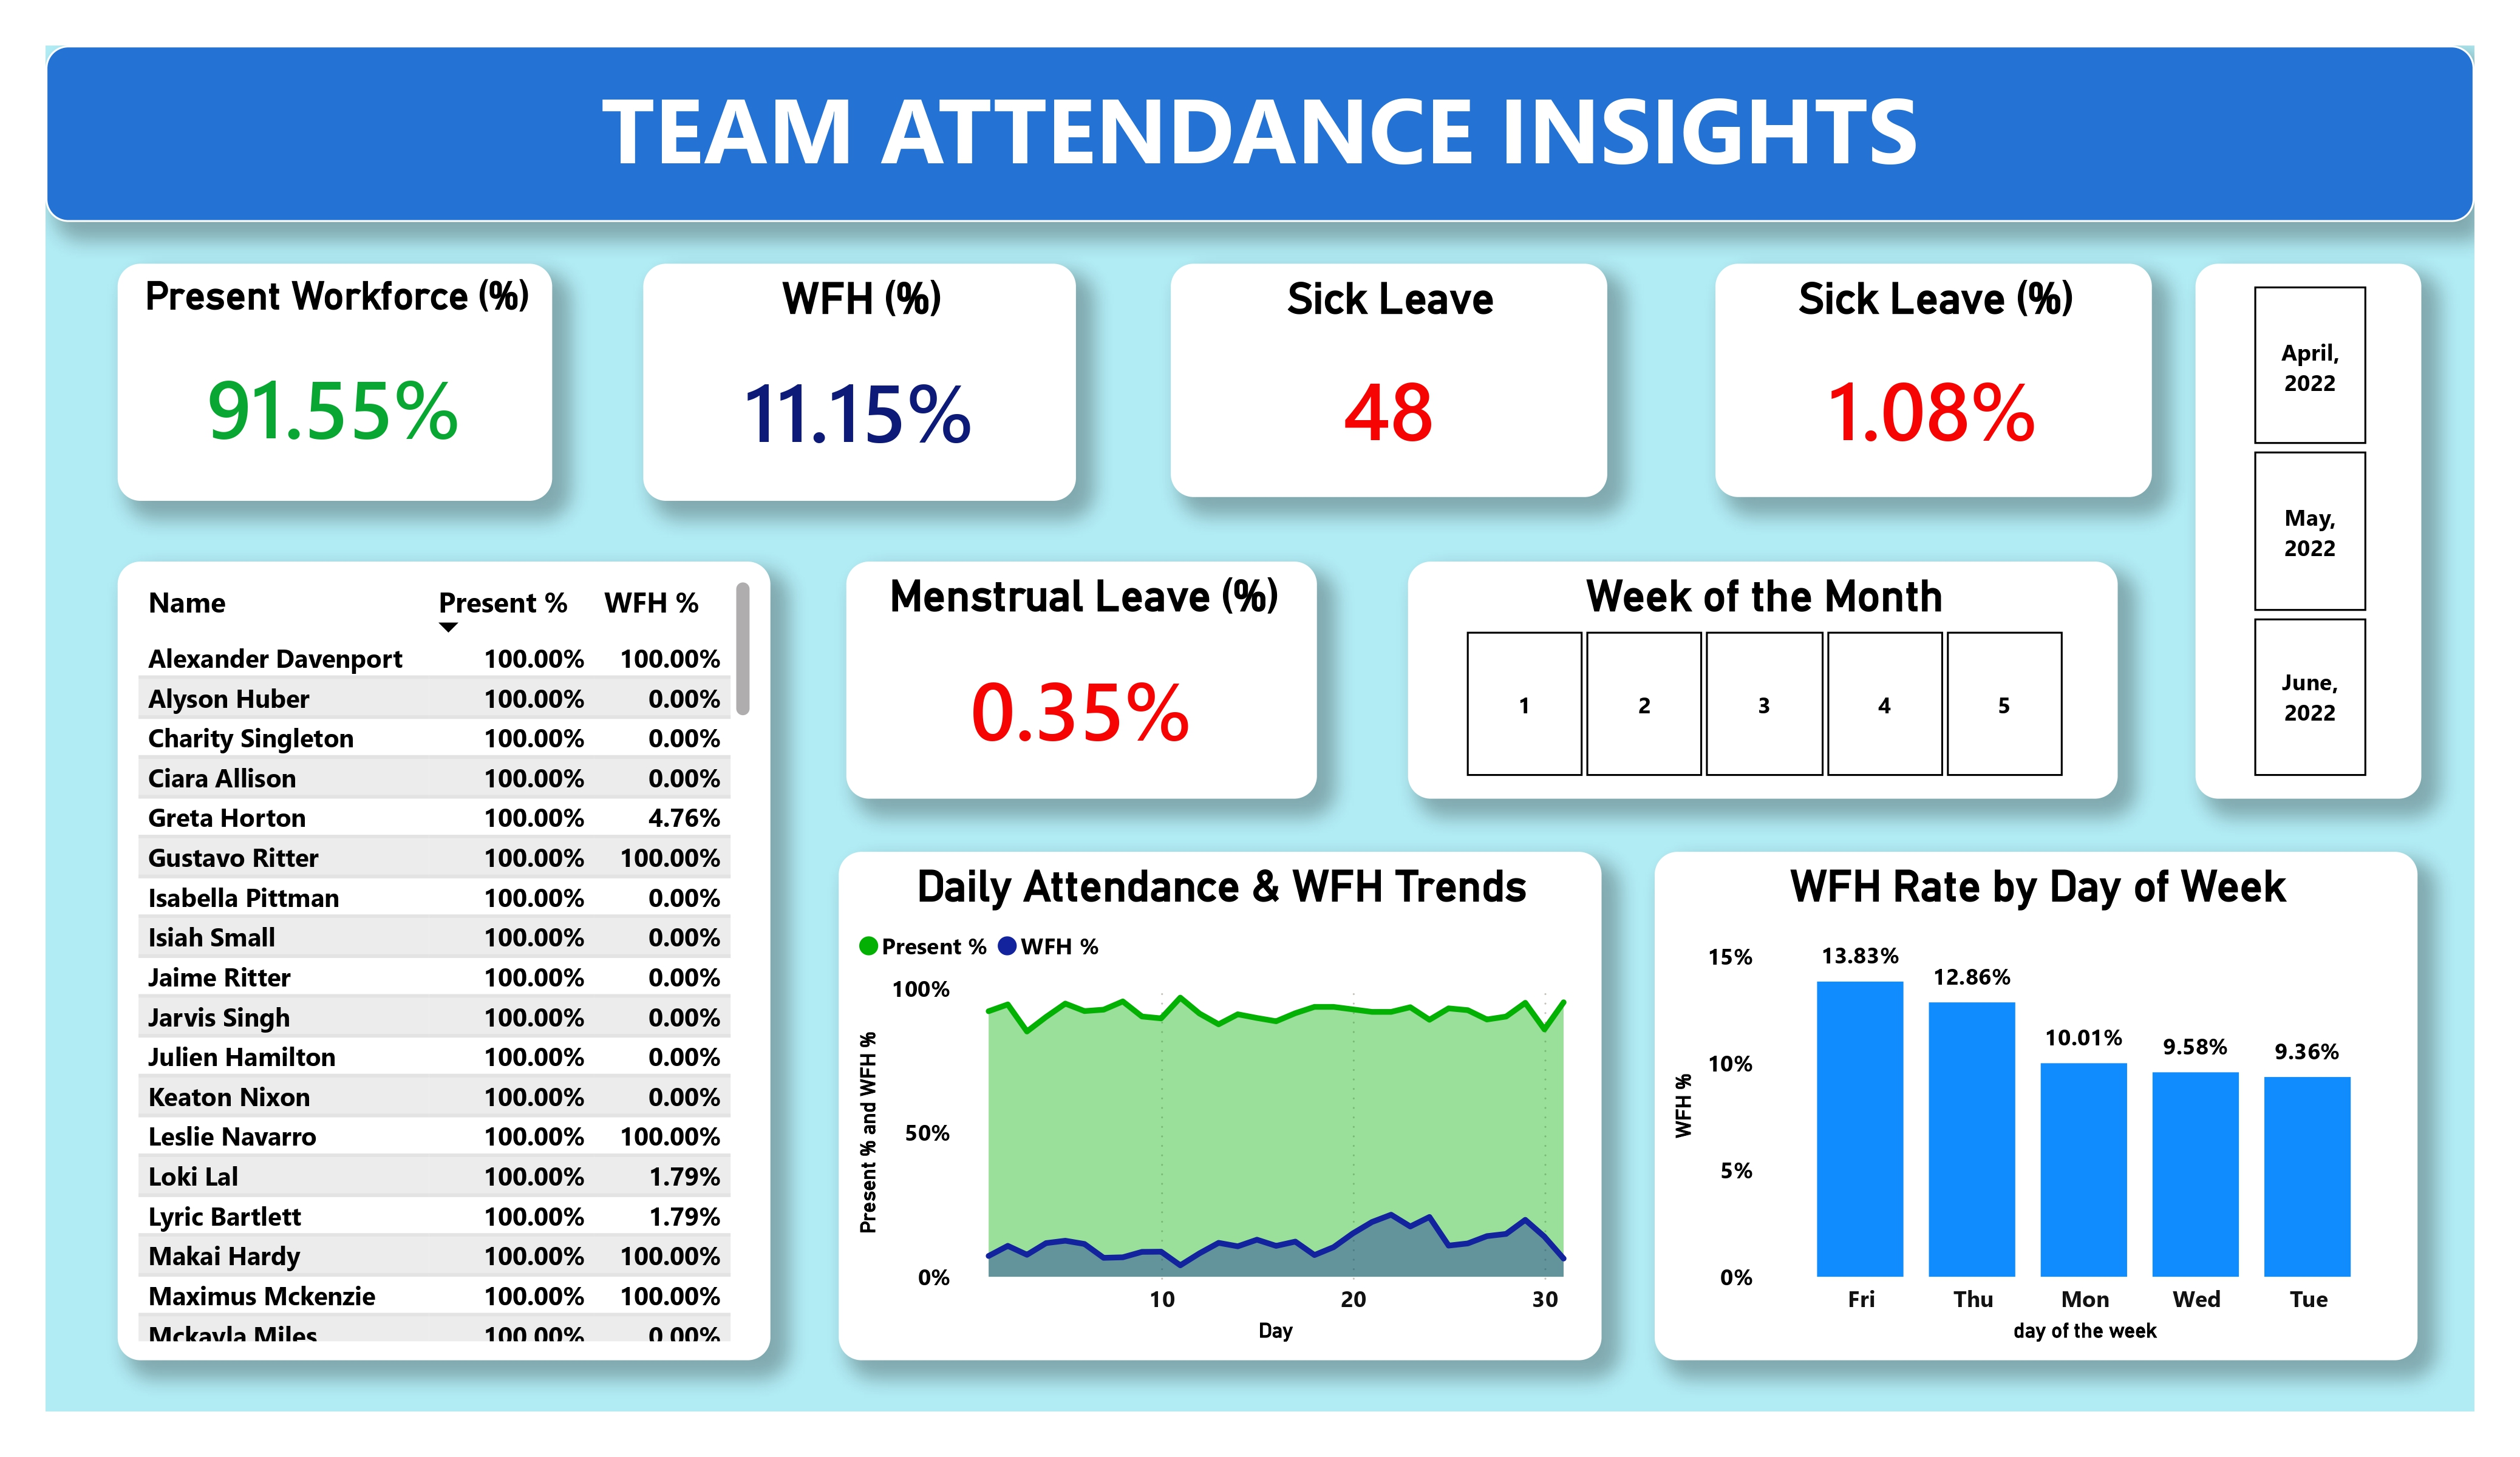

The page's visual inventory and layout, read from the dashboard file:
{"tool":"powerbi","page":{"name":"Page 1","canvas":[1280,720],"ordinal":0},"visuals":[{"type":"cardVisual","title":"Present Workforce (%)","fields":{"Data":["FinalData.Present %"]},"box":[38.3,115,228.3,125],"z":0},{"type":"slicer","fields":{"Values":["FinalData.Month"]},"box":[1133.3,115,118.3,281.7],"z":1000},{"type":"cardVisual","title":"WFH (%)","fields":{"Data":["FinalData.WFH %"]},"box":[315,115,228.3,125],"z":2000},{"type":"cardVisual","title":"Sick Leave","fields":{"Data":["FinalData.SUM SL"]},"box":[593.3,115,230,123.3],"z":3000},{"type":"cardVisual","title":"Sick Leave (%)","fields":{"Data":["FinalData.SL %"]},"box":[880,115,230,123.3],"z":4000},{"type":"slicer","title":"Week of the Month","fields":{"Values":["FinalData.Week of Month"]},"box":[718.3,271.7,373.3,125],"z":5000},{"type":"cardVisual","title":"Menstrual Leave (%)","fields":{"Data":["FinalData.sum ml"]},"box":[421.7,271.7,248.3,125],"z":6000},{"type":"tableEx","fields":{"Values":["FinalData.Name","FinalData.Present %","FinalData.WFH %"]},"box":[38.3,271.7,343.3,421.7],"z":7000},{"type":"textbox","box":[0,0,1280,93.3],"z":8000},{"type":"areaChart","title":"Daily Attendance & WFH Trends","fields":{"Y":["FinalData.Present %","FinalData.WFH %"],"Category":["FinalData.Date.Variation.Date Hierarchy.Day"]},"box":[418.3,425,401.7,268.3],"z":9000},{"type":"columnChart","title":"WFH Rate by Day of Week","fields":{"Category":["FinalData.day of the week"],"Y":["FinalData.WFH %"]},"box":[848.3,425,401.7,268.3],"z":10000}]}

Visuals, with their boxes on the page's 1280x720 design canvas (x1, y1, x2, y2). These are canvas units, not pixel positions in the 2520x1457 screenshot, which may show the page scaled, cropped or inside an application window:
"Present Workforce (%)" cardVisual: x1=38 y1=115 x2=267 y2=240
slicer - FinalData.Month: x1=1133 y1=115 x2=1252 y2=397
"WFH (%)" cardVisual: x1=315 y1=115 x2=543 y2=240
"Sick Leave" cardVisual: x1=593 y1=115 x2=823 y2=238
"Sick Leave (%)" cardVisual: x1=880 y1=115 x2=1110 y2=238
"Week of the Month" slicer: x1=718 y1=272 x2=1092 y2=397
"Menstrual Leave (%)" cardVisual: x1=422 y1=272 x2=670 y2=397
tableEx - FinalData.Name x FinalData.Present %: x1=38 y1=272 x2=382 y2=693
textbox: x1=0 y1=0 x2=1280 y2=93
"Daily Attendance & WFH Trends" areaChart: x1=418 y1=425 x2=820 y2=693
"WFH Rate by Day of Week" columnChart: x1=848 y1=425 x2=1250 y2=693
